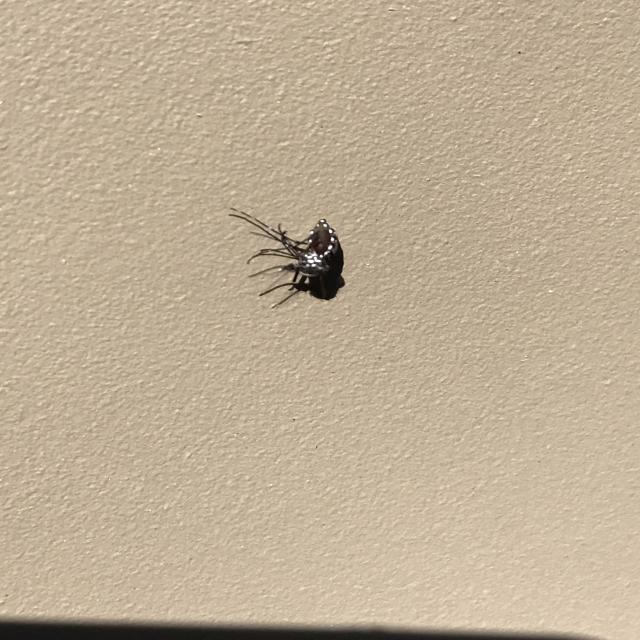albopictus: (222, 203, 346, 310)
